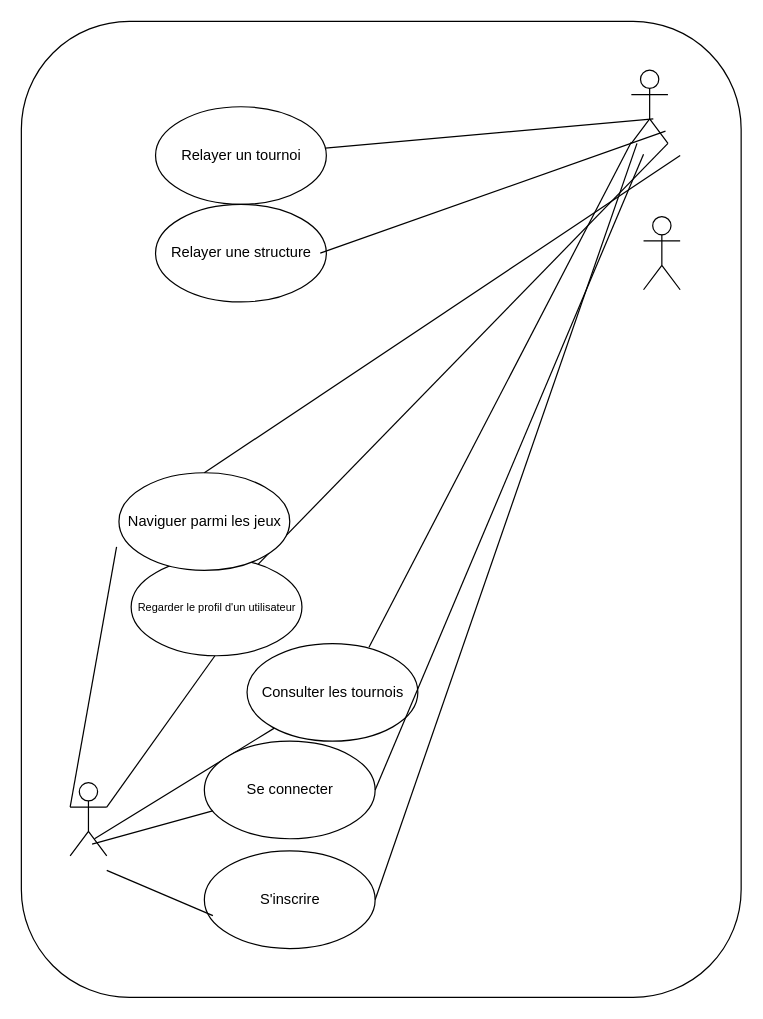
Image size: 763x1019. Some labels were removed from this diagram. The shapes that lost their labels are listed below. From the top down, each one's box as (x1, y1, x2, y2) in pixels, then its label:
(630, 69, 668, 143): Utilisateur
(642, 215, 680, 290): Organisateur/Gérant
(69, 781, 107, 856): Visiteur
